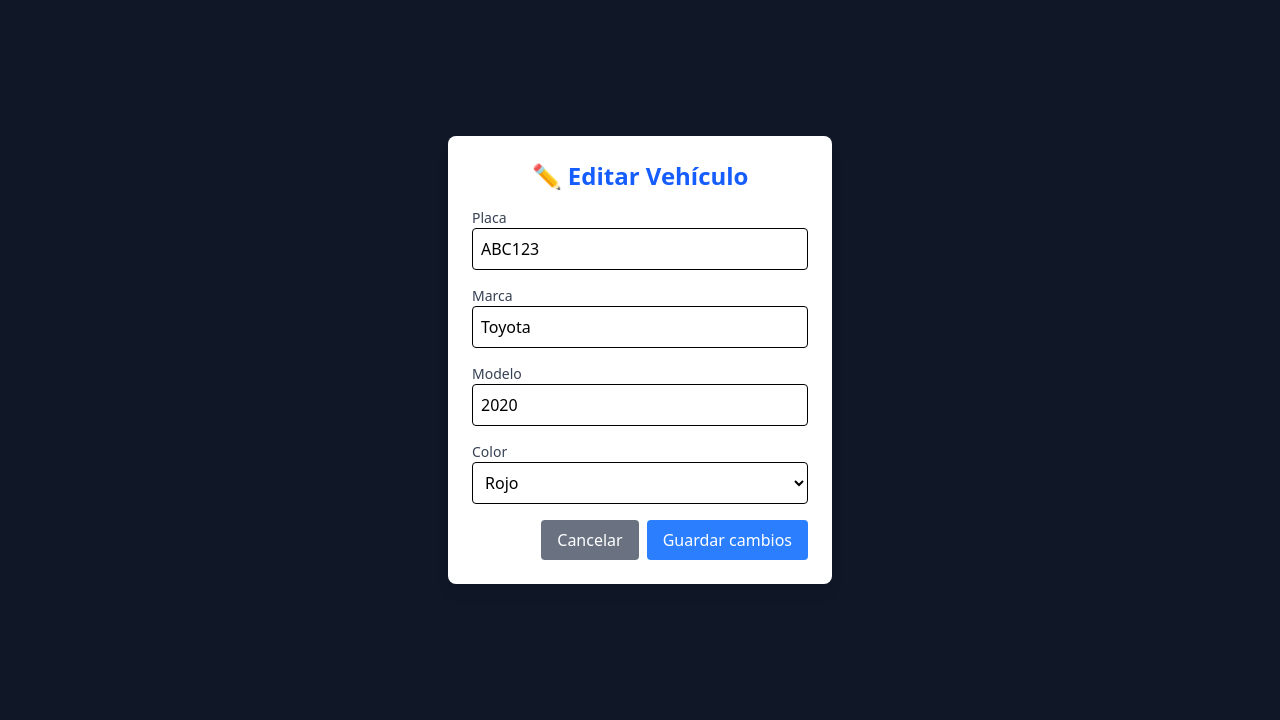
EditVehicle Component - Error Handling › shows an error if 'modelo' is not a positive number
Replace the text in the number field labelled "Modelo" with "-2020" at (640, 405), box [472, 384, 808, 426]
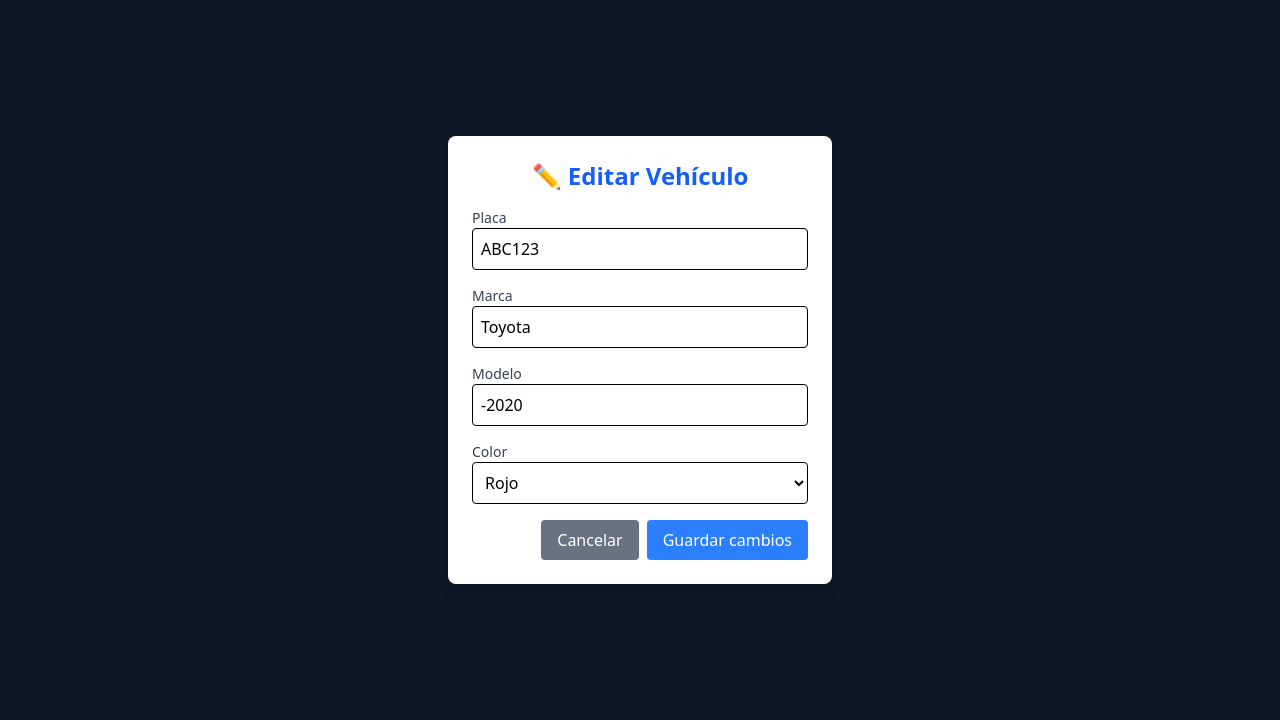
Click the button "Guardar cambios" at (727, 540), box [647, 520, 808, 560]
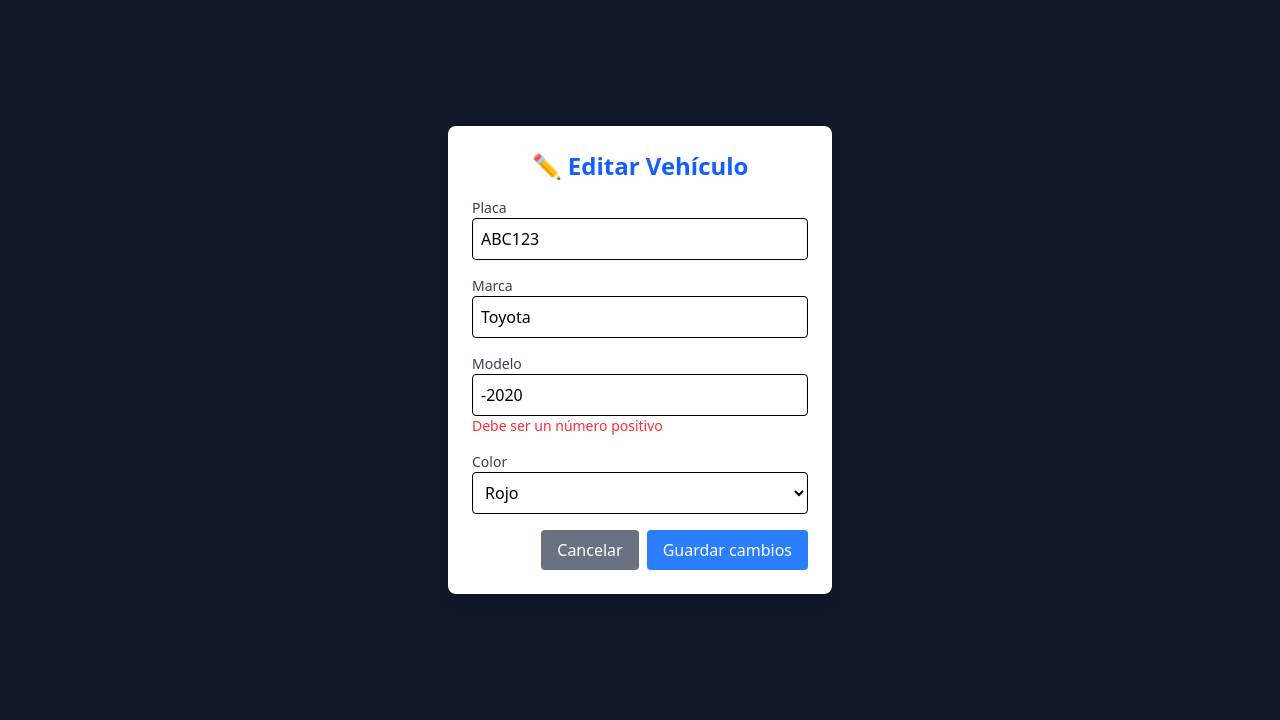
expect the text "Debe ser un número positivo" is shown: met, box [472, 416, 663, 435]
